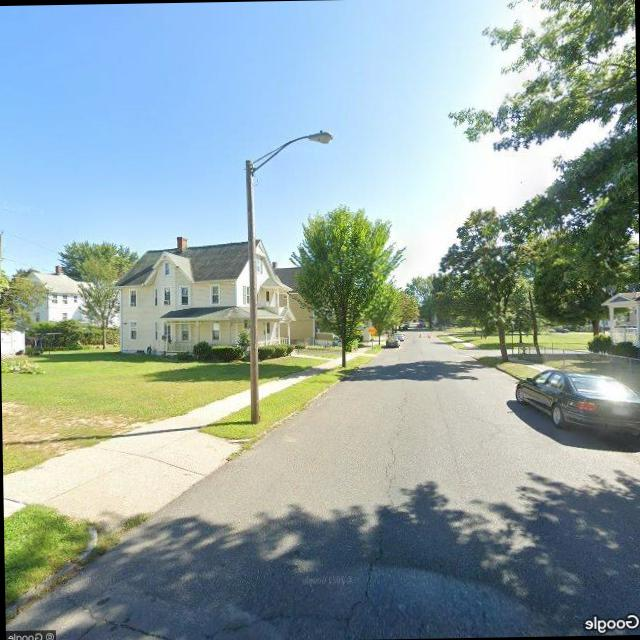crack: (342, 402, 410, 634)
